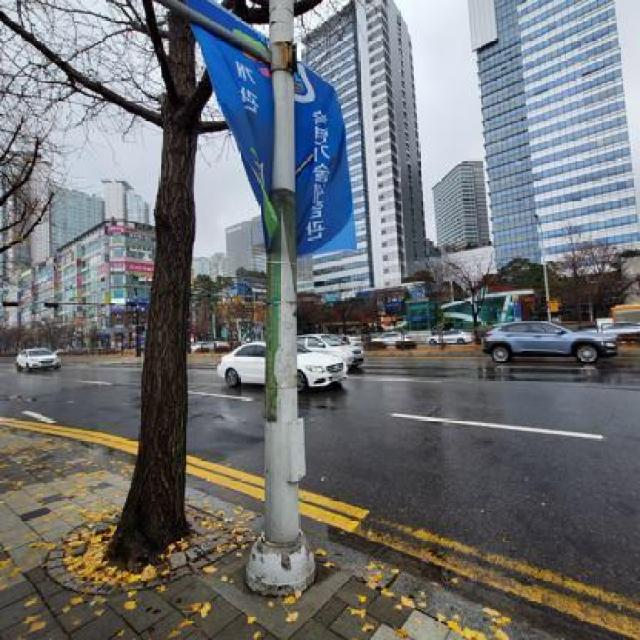pole: (240, 0, 337, 598)
